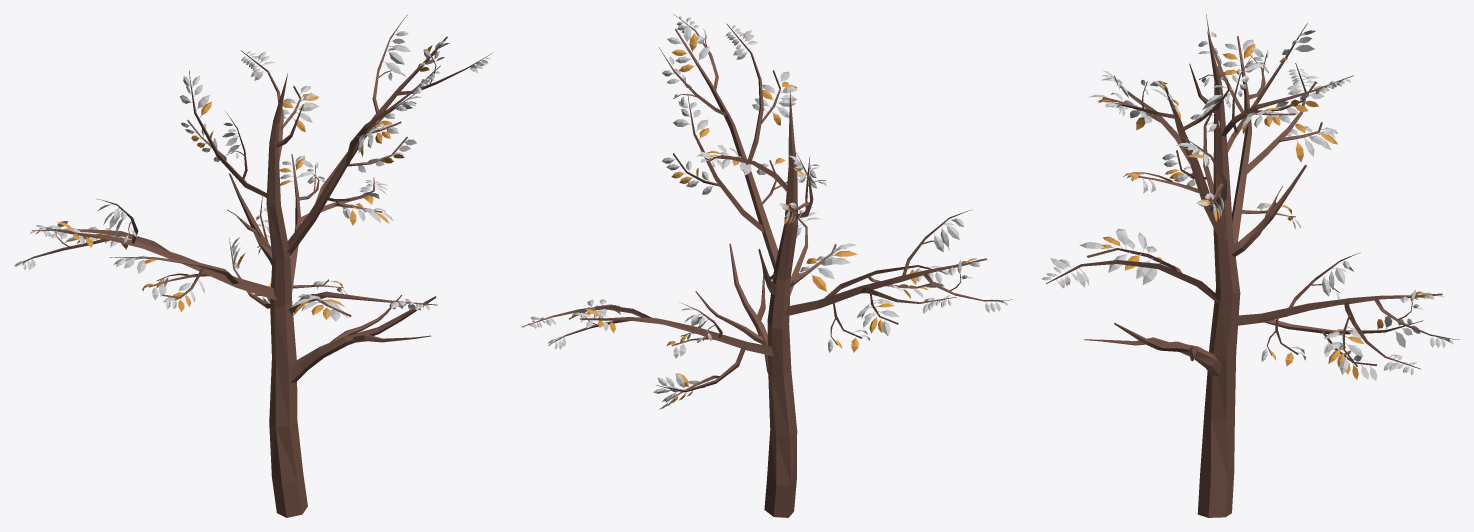
3 views of the same model, side by side, from view 1: azimuth 30°, elevation 25°; view 2: azimuth 150°, elevation 25°; view 3: azimuth 270°, elevation 25° (orthographic). The views are drawn at different scales.
Size of the model in its own units: 5.85 by 5.91 by 4.44.
